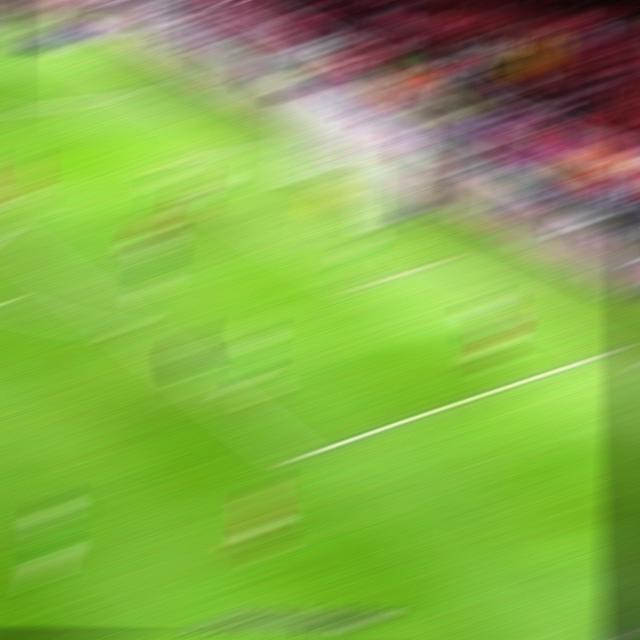bigarea_bottom_inner: (276, 445, 316, 469)
bigarea_bottom_outter: (595, 345, 627, 357)
bigarea_top_outter: (125, 88, 155, 96)
bottom_arc_area_intersection: (108, 316, 144, 336)
corner: (20, 32, 50, 34)
smallarea_bottom_inner: (339, 279, 371, 293)
smallarea_bottom_outter: (427, 253, 460, 266)
smallarea_top_inner: (142, 159, 174, 170)
smallarea_top_outter: (224, 142, 254, 152)
